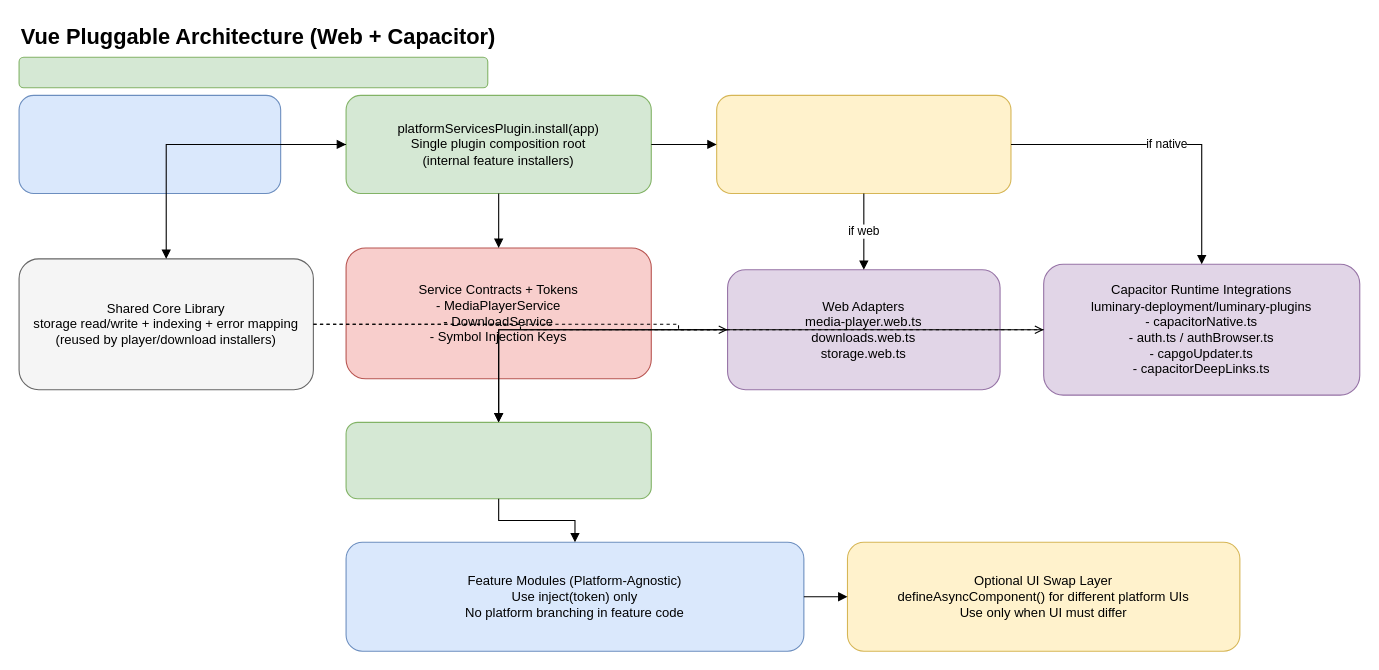
Some shapes in this 1379 by 670 pixel diagram are drawn without their labels. Each missing label, with the centre of its shape:
"App Bootstrap main.ts app.use(platformServicesPlugin)" goes at [149,143].
"app.provide(token, adapter)" goes at [498,460].
"Decision: Option A selected (Single runtime plugin)" goes at [253,72].
"Runtime Detection Capacitor.isNativePlatform() Capacitor.getPlatform()" goes at [863,143].
